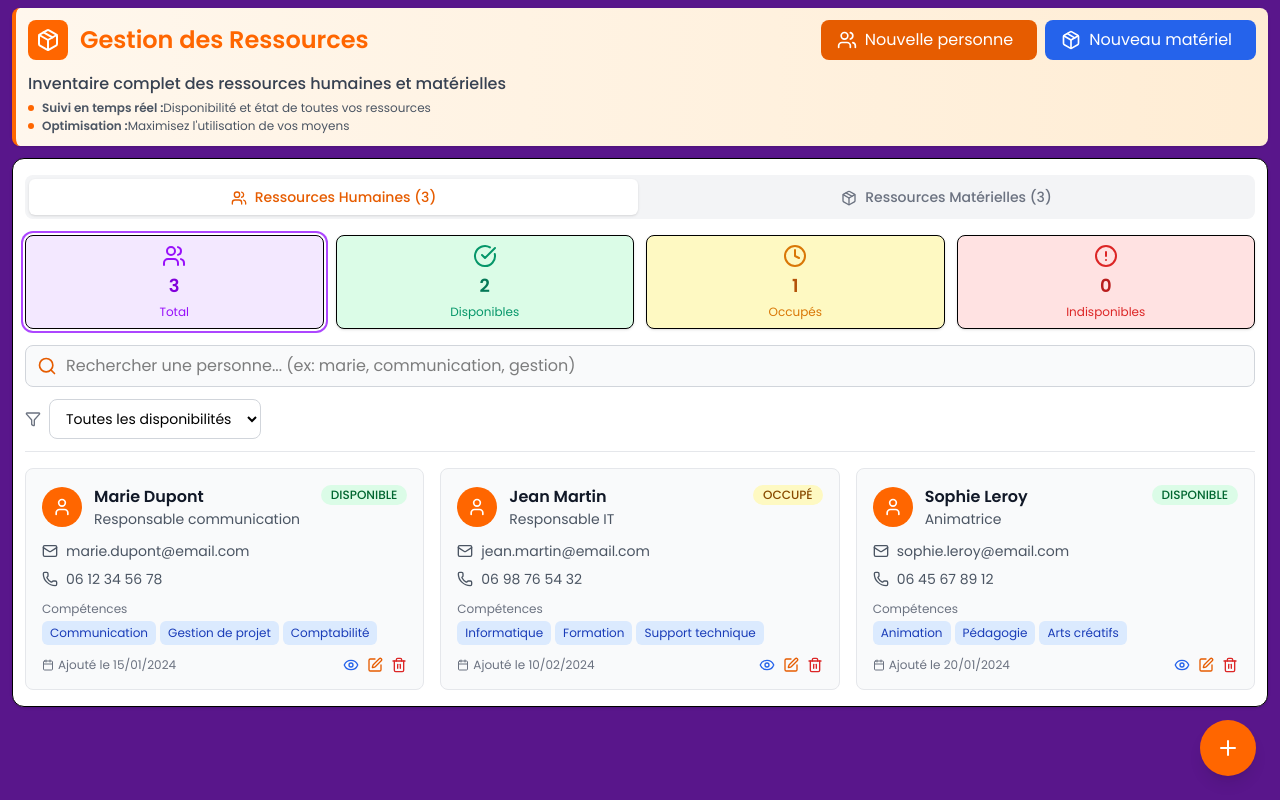
Test case: ResourcesPage › should switch to material resources tab
The width and height of the screenshot is (1280, 800).
# Switch to material resources tab using a more specific selector
Click the button "Ressources Matérielles (3)".
click(946, 197)  # box [642,179,1251,215]
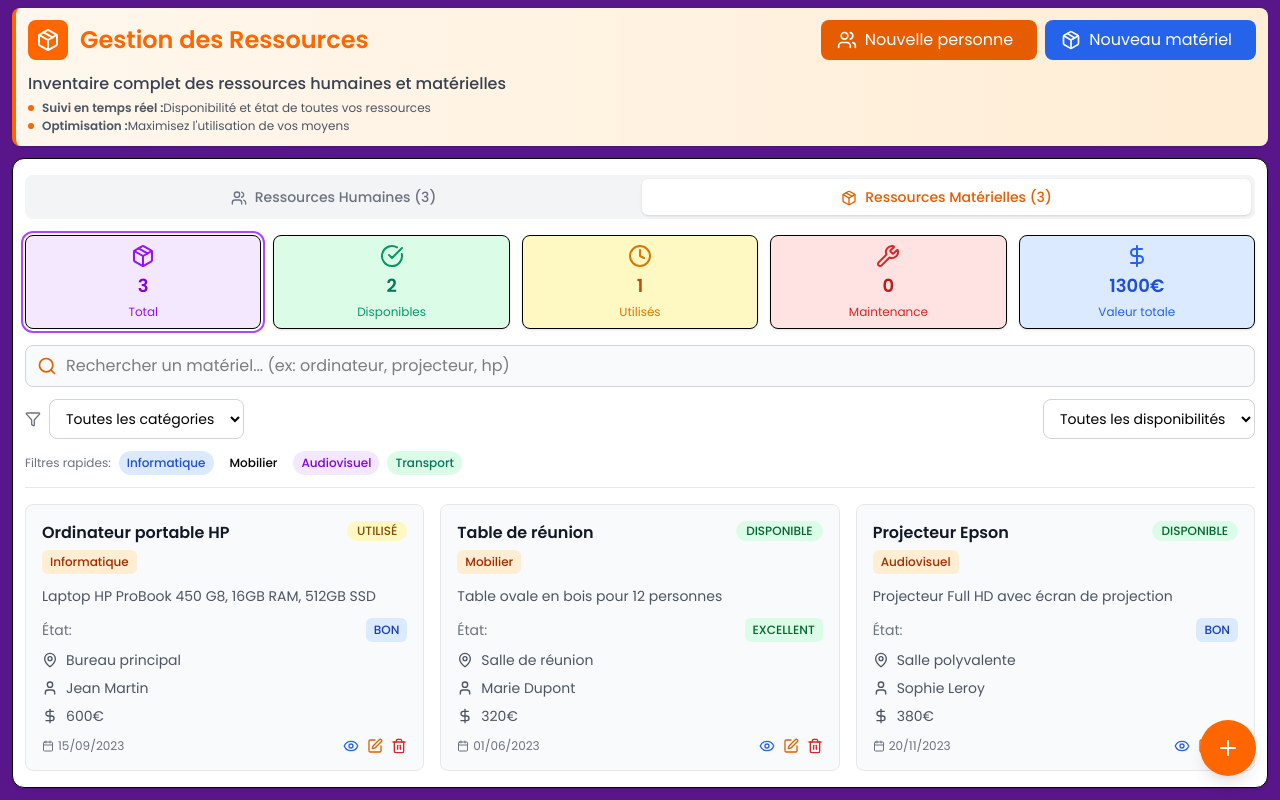
Result: the heading "Ordinateur portable HP" is shown at [42,521,229,545]
Result: the heading "Table de réunion" is shown at [457,521,594,545]
Result: the heading "Projecteur Epson" is shown at [873,521,1009,545]
